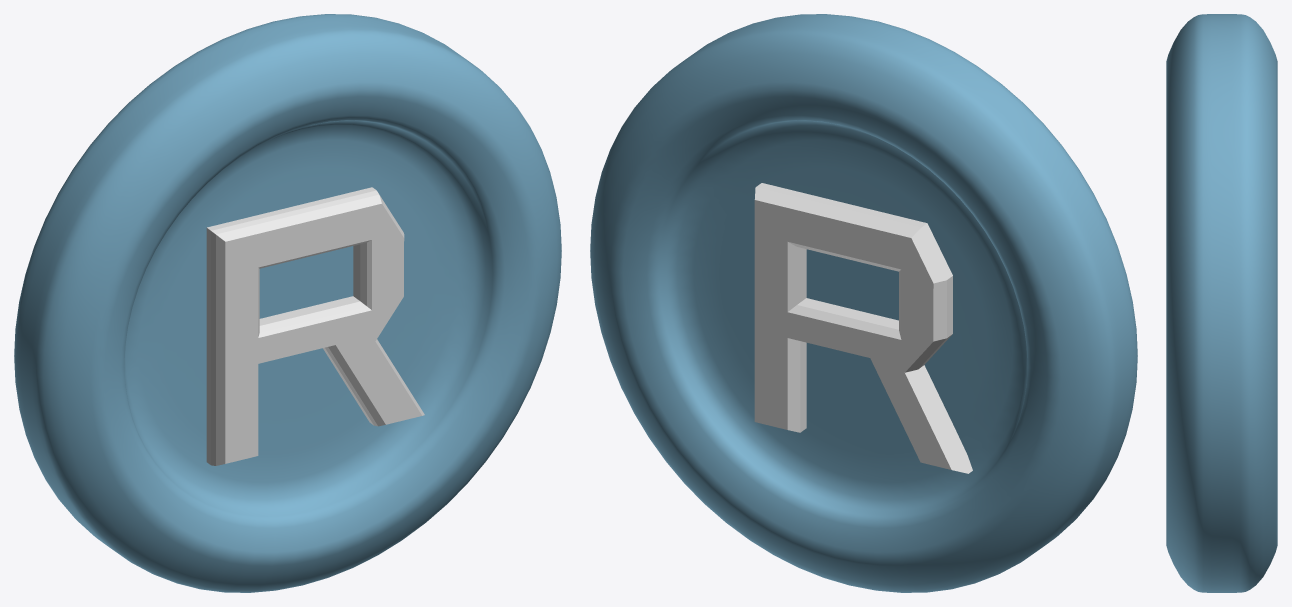
The model's file is RBuck.fbx.
3 renders of one model, left to right at view 1: azimuth 30°, elevation 25°; view 2: azimuth 150°, elevation 25°; view 3: azimuth 270°, elevation 25°, orthographic. The views are drawn at different scales.
Visible parts, largest first — view 1: Coin, LetterF; view 2: Coin, LetterB; view 3: Coin.
Part boxes in pixels (x1,y1,x2,y2): Coin: [14, 14, 561, 592]; LetterF: [206, 187, 424, 465]; Coin: [590, 14, 1137, 592]; LetterB: [754, 183, 972, 473]; Coin: [1166, 14, 1277, 592].
Bounding box in the file's own units: 130 × 130 × 25.08.
